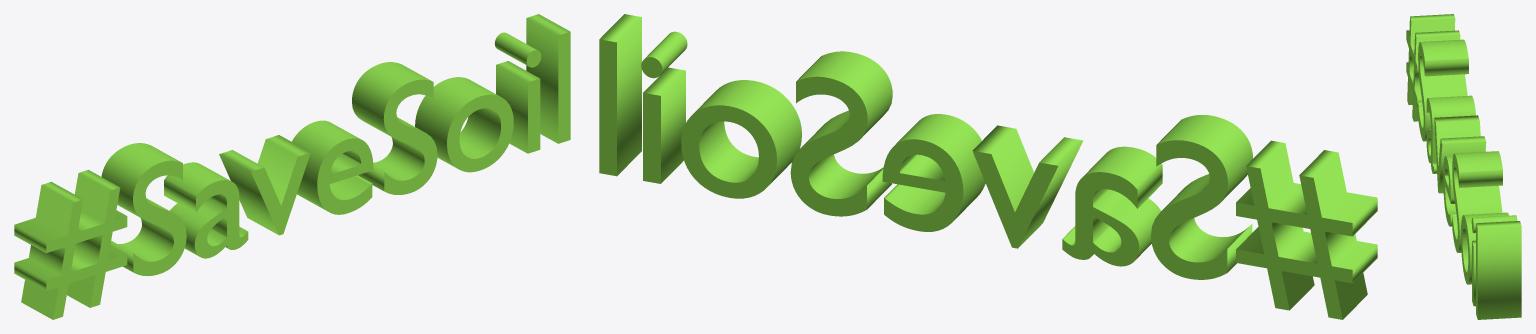
The model's file is savesoil.glb.
3 views of the same model, side by side, from view 1: azimuth 30°, elevation 25°; view 2: azimuth 150°, elevation 25°; view 3: azimuth 270°, elevation 25° (orthographic). The views are drawn at different scales.
Parts seen in each view (by area): view 1: Text.003; view 2: Text.003; view 3: Text.003.
Boxes of the visible parts, x1,y1,x2,y2 form: Text.003: [14, 14, 570, 319]; Text.003: [599, 14, 1377, 319]; Text.003: [1406, 14, 1521, 319].
Bounding box in the file's own units: 2.23 × 0.4561 × 0.4619.
